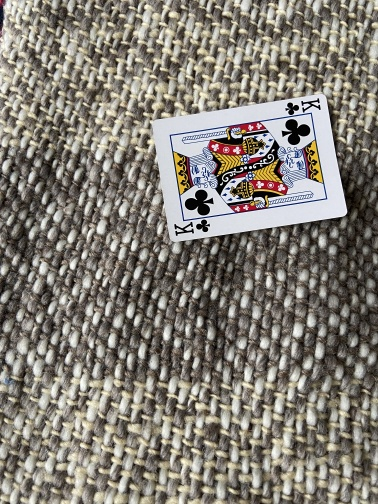king: (150, 93, 349, 244)
